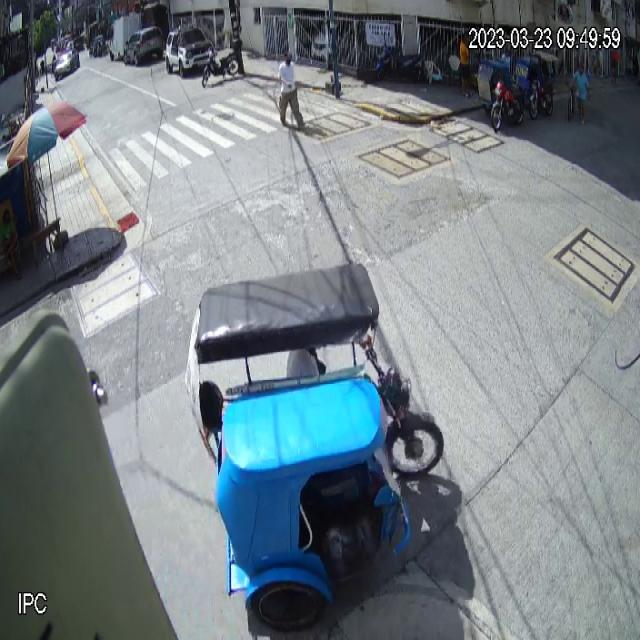Tricycle: (184, 262, 444, 630)
